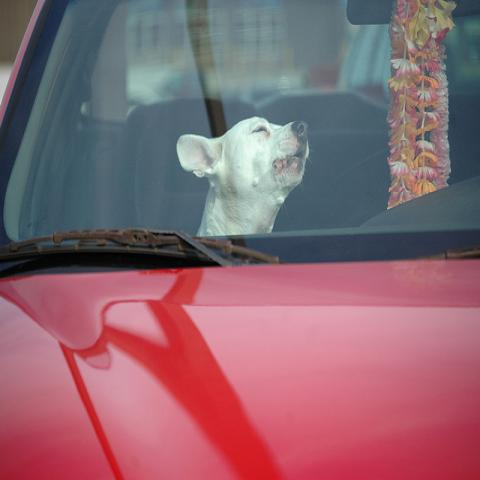car: (0, 0, 480, 475)
